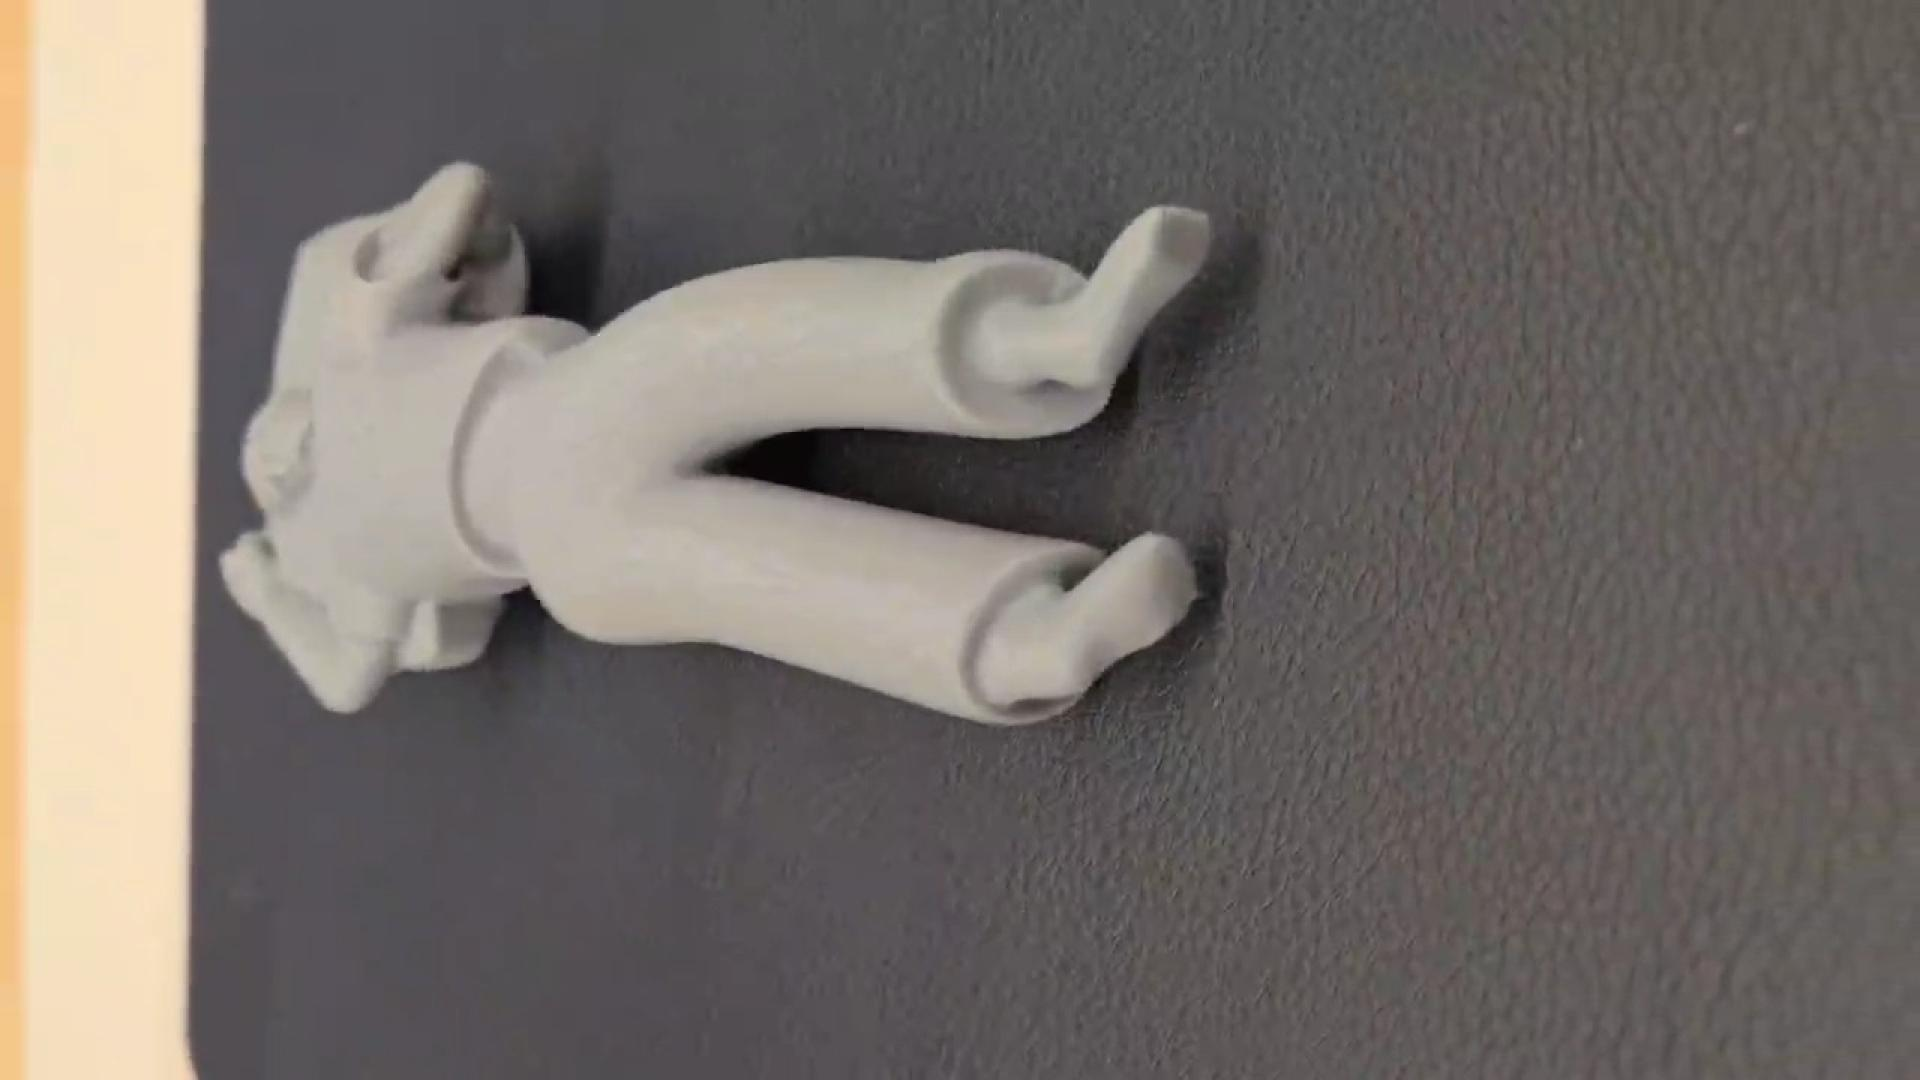Bad-style: (216, 146, 1233, 757)
